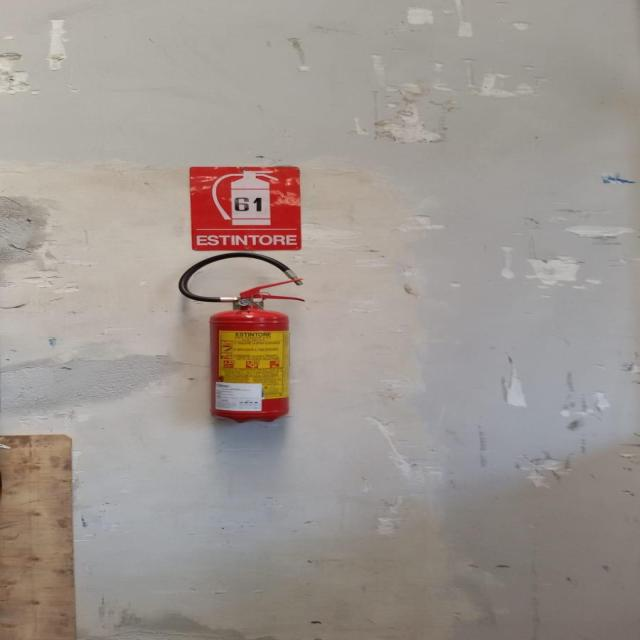fire_extinguisher: (174, 250, 314, 426)
